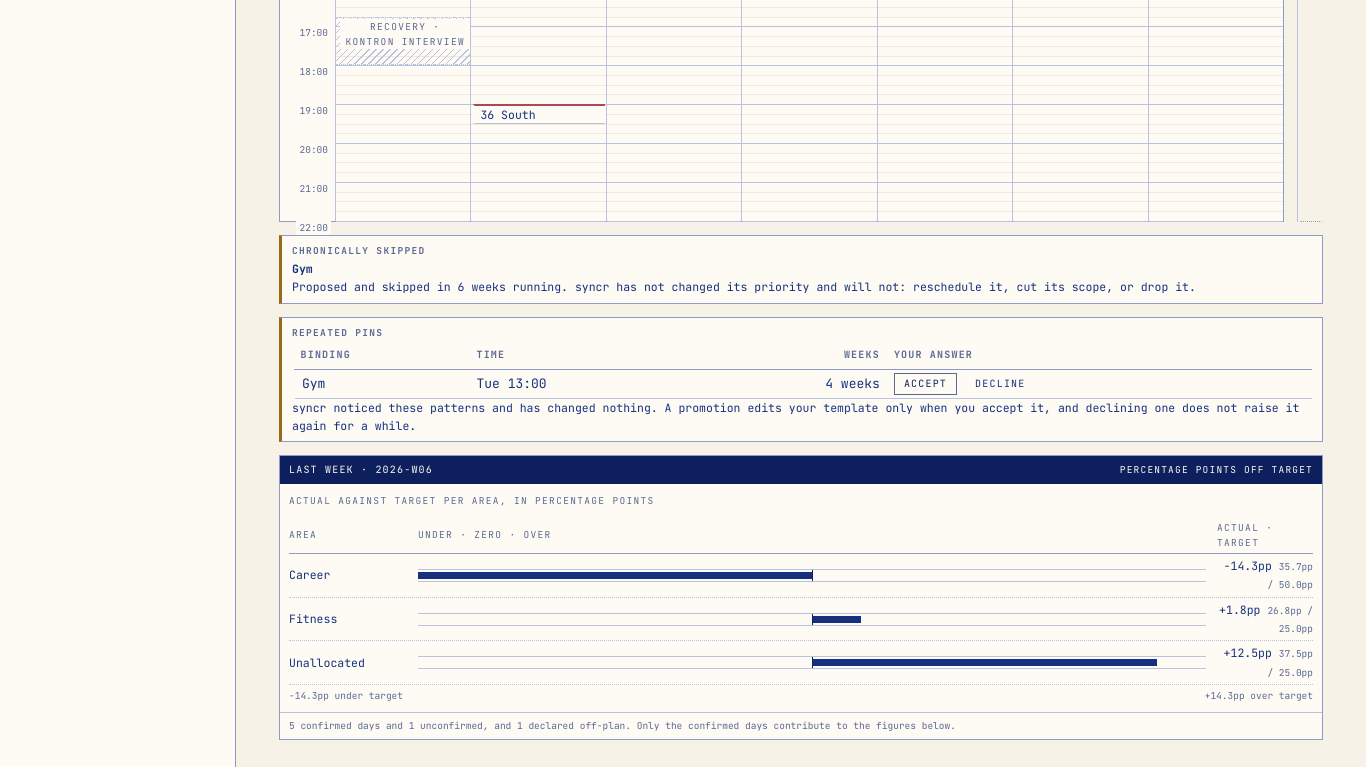
Test case: the promotion candidates › renders the api's sentence when an answer is refused
This screenshot has width=1366, height=767.
(page scrolled)
expect the message labelled "Repeated pins" is shown: met, box 279,316 -> 1323,442
Click the button "Accept" at (926, 384), box 894,373 -> 957,395
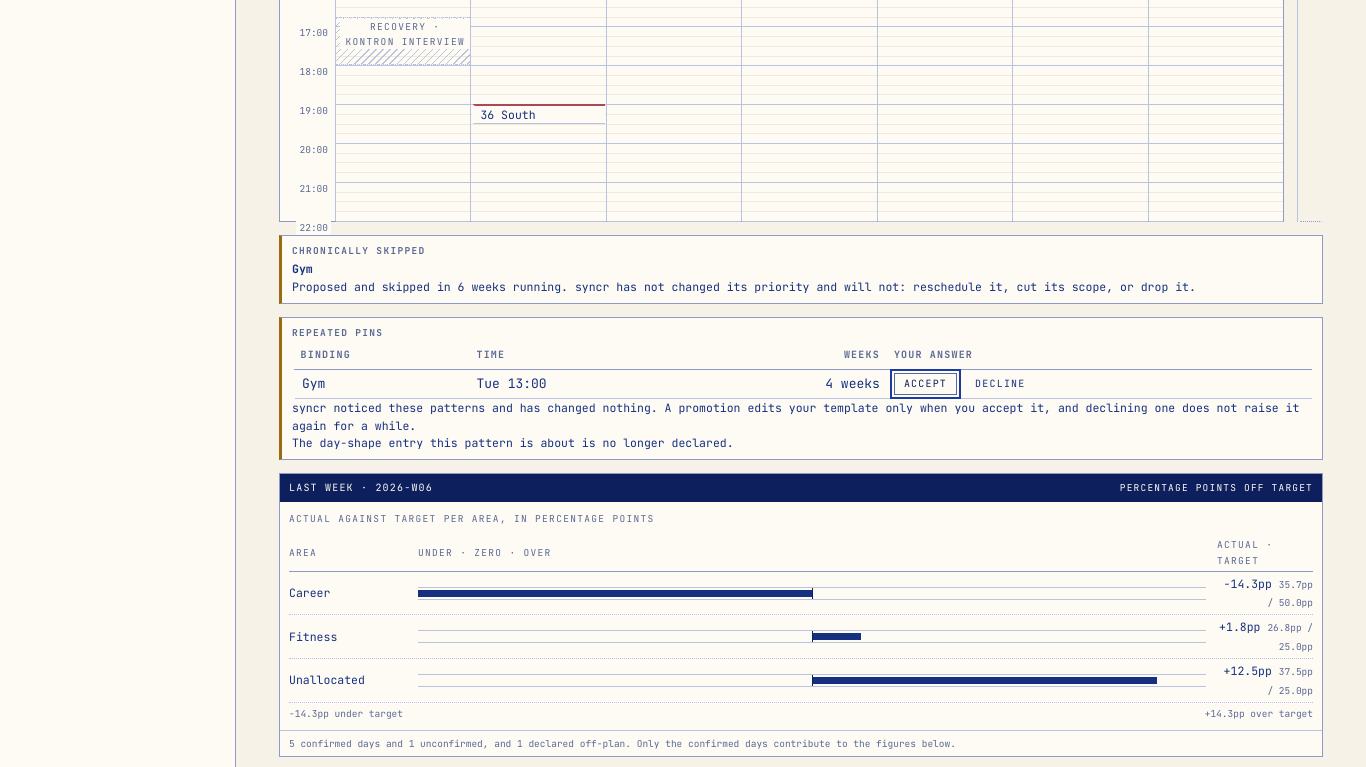
expect the text "no longer declared" is shown: met, box 292,435 -> 734,450
